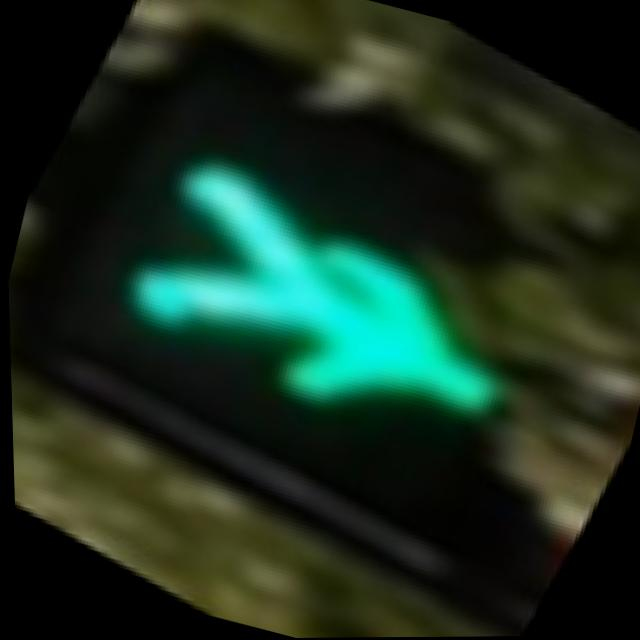green_light: (28, 62, 618, 579)
